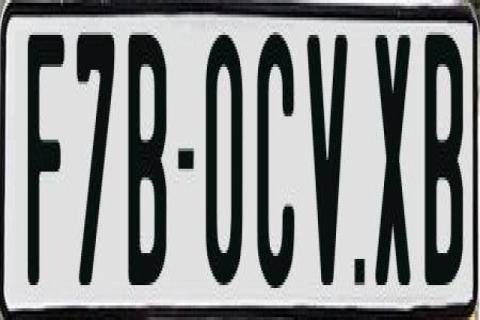0: (203, 35, 243, 291), (77, 29, 116, 282)
B: (422, 29, 464, 279), (128, 26, 167, 282)
C: (254, 29, 298, 297)
F: (28, 26, 66, 282)
V: (308, 29, 350, 291)
X: (374, 26, 414, 291)
